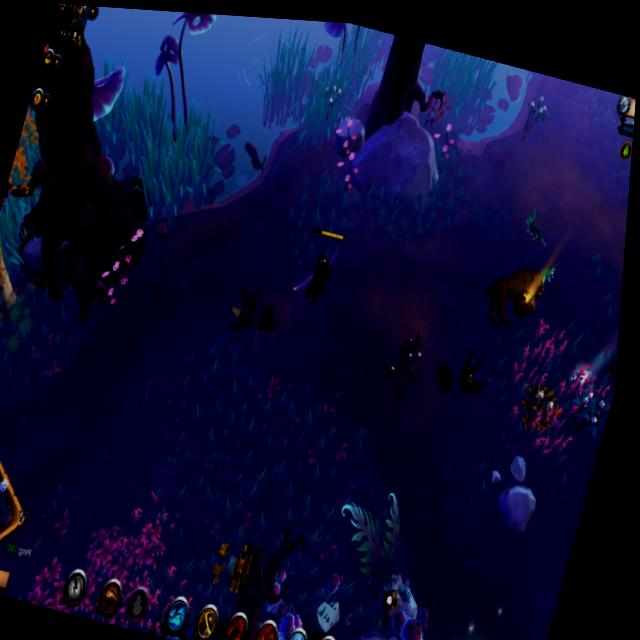hide: (369, 319, 437, 433), (562, 367, 616, 450), (509, 81, 559, 149), (517, 370, 568, 434)
mob: (466, 245, 561, 347)
ore: (404, 610, 547, 640)
red: (287, 220, 351, 316)
wisp caged: (0, 106, 68, 342)
